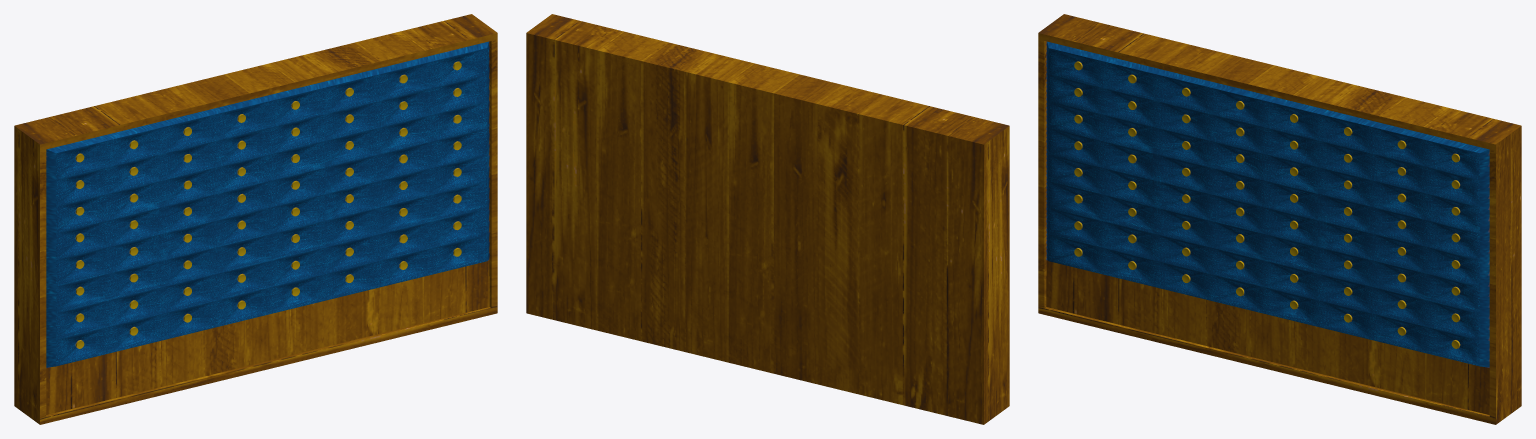
The model's file is ParedeAlcoxodadaOW.fbx.
3 views of the same model, side by side, from view 1: azimuth 30°, elevation 25°; view 2: azimuth 150°, elevation 25°; view 3: azimuth 330°, elevation 25° (orthographic).
Visible parts, largest first — view 1: ParedeAlcoxoadaOW; view 2: ParedeAlcoxoadaOW; view 3: ParedeAlcoxoadaOW.
Boxes of the visible parts, box(x1,y1,x2,y2) form: ParedeAlcoxoadaOW: box(14, 14, 497, 424); ParedeAlcoxoadaOW: box(526, 14, 1009, 424); ParedeAlcoxoadaOW: box(1038, 14, 1521, 424).
Size of the model in its own units: 525 by 307 by 56.81.
